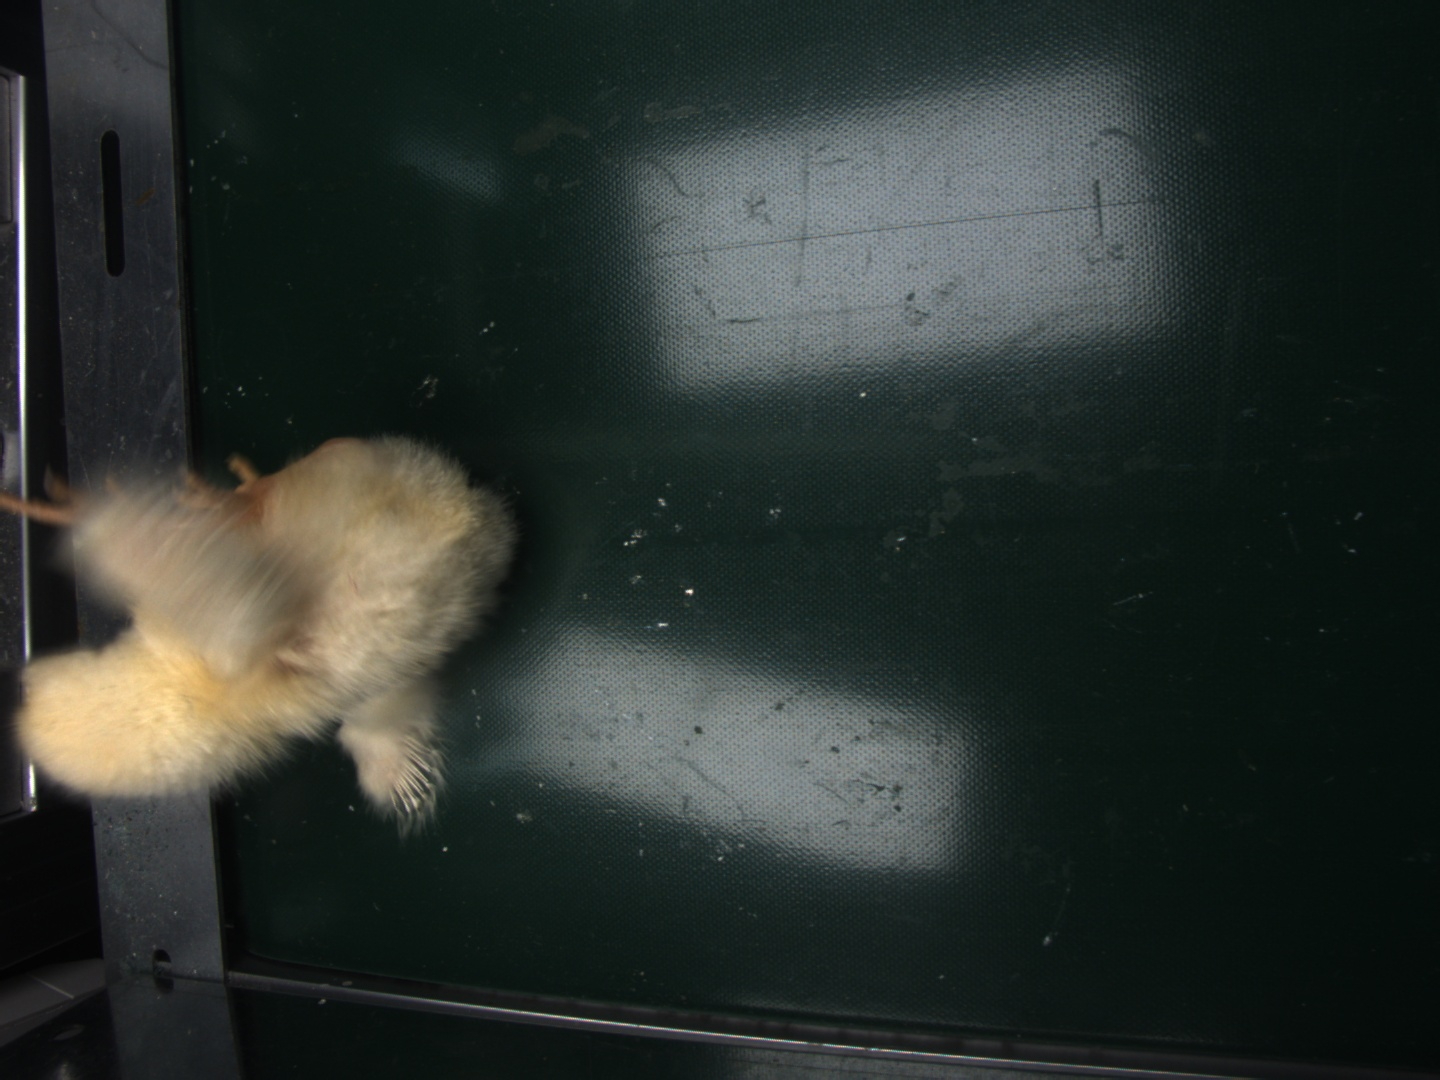male: (390, 728, 440, 817)
